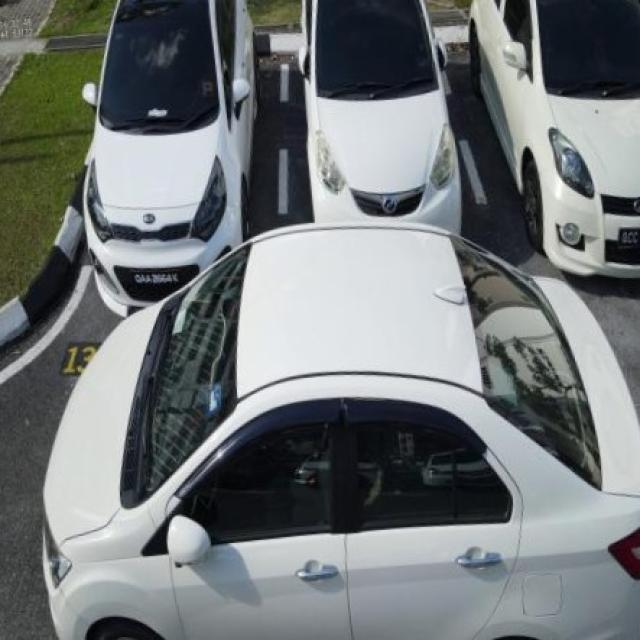Legalparking: (0, 0, 640, 326)
illegalparking: (21, 225, 640, 640)
